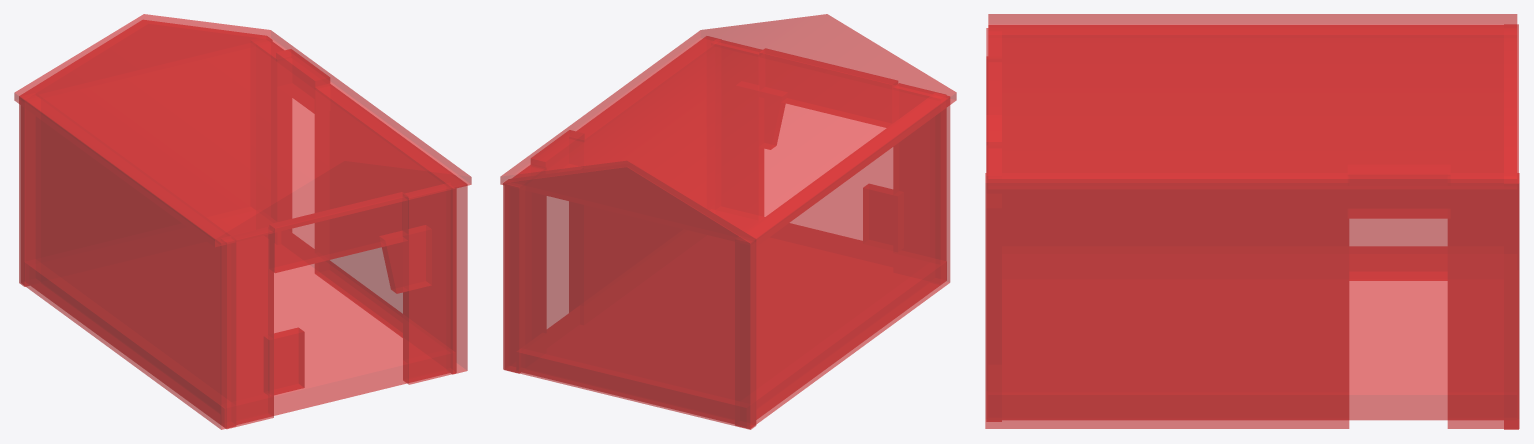
Rendered from SM_Bld_WoodenShack_01_C_Collision.fbx.
The picture shows the model from 3 angles, left to right: view 1: azimuth 30°, elevation 25°; view 2: azimuth 150°, elevation 25°; view 3: azimuth 270°, elevation 25°; orthographic projection. The views are drawn at different scales.
Visible parts, largest first — view 1: SM_Bld_WoodenShack_01_C_Collision; view 2: SM_Bld_WoodenShack_01_C_Collision; view 3: SM_Bld_WoodenShack_01_C_Collision.
Boxes of the visible parts, bbox=[...] form: SM_Bld_WoodenShack_01_C_Collision: bbox=[14, 14, 471, 429]; SM_Bld_WoodenShack_01_C_Collision: bbox=[500, 14, 956, 429]; SM_Bld_WoodenShack_01_C_Collision: bbox=[985, 14, 1519, 429].
Size of the model in its own units: 441 by 393 by 604.
